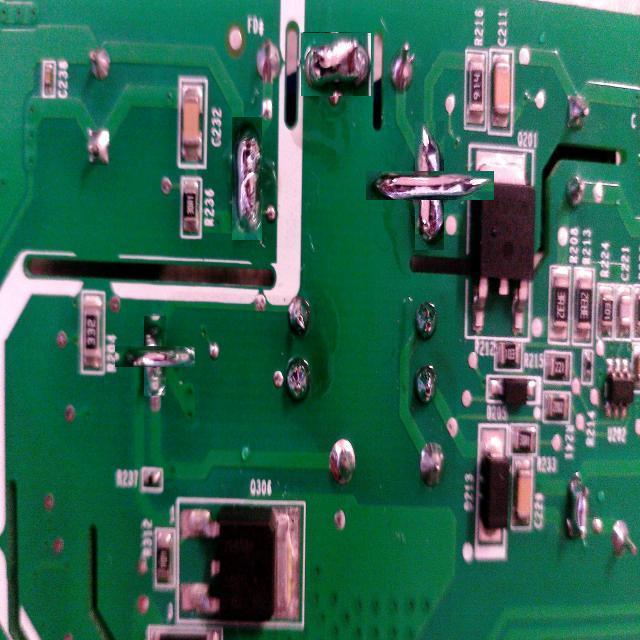Short_circuit: (390, 146, 469, 225), (300, 32, 371, 96), (232, 118, 262, 242), (130, 331, 180, 382), (566, 468, 589, 559)
